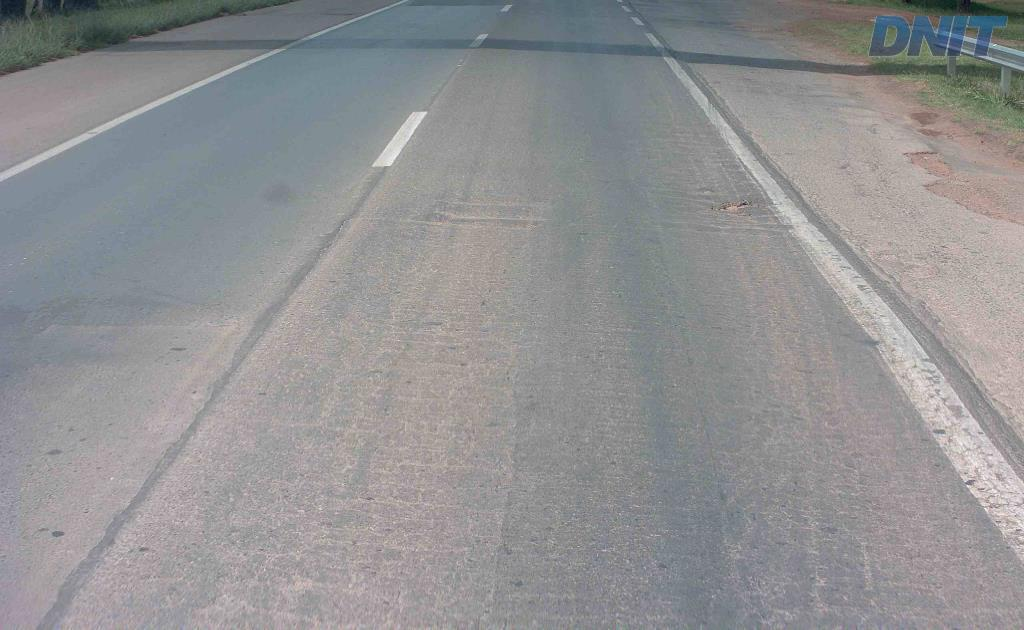pothole: (712, 196, 758, 215)
